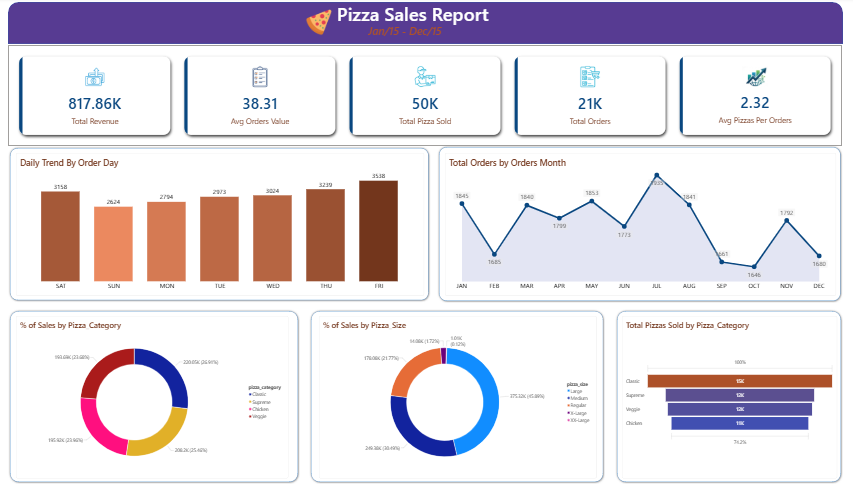

This screenshot's page, from the dashboard's own definition file:
{"tool":"powerbi","page":{"name":"Page 1","canvas":[3840,2160],"ordinal":0},"visuals":[{"type":"cardVisual","fields":{"Data":["pizza_sales.Total Revenue","pizza_sales.Avg Orders Value","pizza_sales.Total Pizza Sold","pizza_sales.Total Orders","pizza_sales.Avg Pizzas Per Orders"]},"box":[130.1,208.2,3617.3,438.1],"z":0},{"type":"shape","box":[130.1,21.7,3621.7,182.2],"z":1},{"type":"textbox","title":"Pizza Sales Report","box":[1559.1,18.2,713.6,200],"z":2},{"type":"textbox","title":"Jan/15 - Dec/15","box":[1690.9,113.6,440.9,100],"z":3},{"type":"image","box":[1395.5,50,163.6,113.6],"z":4},{"type":"shape","box":[129.6,648.1,1833.3,677.8],"z":5},{"type":"columnChart","title":"Daily Trend By Order Day","fields":{"Category":["pizza_sales.Orders Day"],"Y":["pizza_sales.Total Orders"]},"box":[163,677.8,1770.4,618.5],"z":6},{"type":"shape","box":[1992.6,640.7,1759.3,685.2],"z":7},{"type":"areaChart","fields":{"Category":["pizza_sales.Orders Month"],"Y":["pizza_sales.Total Orders"]},"box":[2025.9,677.8,1696.3,618.5],"z":8},{"type":"shape","box":[2763,1351.9,988.9,759.3],"z":11},{"type":"shape","box":[1437,1351.9,1285.2,759.3],"z":12},{"type":"shape","box":[129.6,1351.9,1266.7,759.3],"z":13},{"type":"donutChart","title":"% of Sales by Pizza_Category","fields":{"Category":["pizza_sales.pizza_category"],"Y":["pizza_sales.Total Revenue"]},"box":[163,1381.5,1181.5,703.7],"z":14},{"type":"donutChart","title":"% of Sales by Pizza_Size","fields":{"Category":["pizza_sales.pizza_size"],"Y":["pizza_sales.Total Revenue"]},"box":[1477.8,1381.5,1203.7,703.7],"z":15},{"type":"funnel","title":"Total Pizzas Sold by Pizza_Category","fields":{"Category":["pizza_sales.pizza_category"],"Y":["pizza_sales.Total Pizza Sold"]},"box":[2792.6,1381.5,933.3,703.7],"z":16}]}

Visuals, with their boxes in screenshot pixels (x1, y1, x2, y2), scaled from the page's 3840x2160 canvas onto the 853x494 screenshot:
cardVisual - pizza_sales.Total Revenue x pizza_sales.Avg Orders Value: region(29, 48, 832, 148)
shape: region(29, 5, 833, 47)
"Pizza Sales Report" textbox: region(346, 4, 505, 50)
"Jan/15 - Dec/15" textbox: region(376, 26, 474, 49)
image: region(310, 11, 346, 37)
shape: region(29, 148, 436, 303)
"Daily Trend By Order Day" columnChart: region(36, 155, 429, 296)
shape: region(443, 147, 833, 303)
areaChart - pizza_sales.Orders Month x pizza_sales.Total Orders: region(450, 155, 827, 296)
shape: region(614, 309, 833, 483)
shape: region(319, 309, 605, 483)
shape: region(29, 309, 310, 483)
"% of Sales by Pizza_Category" donutChart: region(36, 316, 299, 477)
"% of Sales by Pizza_Size" donutChart: region(328, 316, 596, 477)
"Total Pizzas Sold by Pizza_Category" funnel: region(620, 316, 828, 477)
